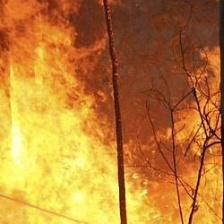fire: (6, 66, 144, 222)
